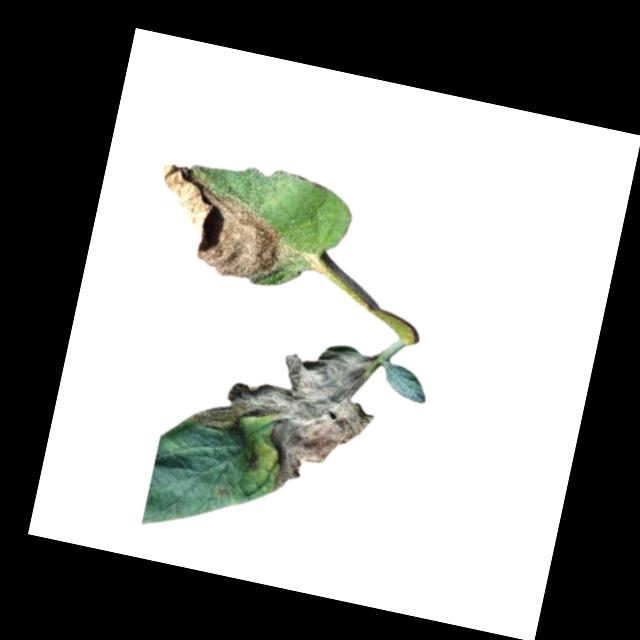Late_blight: (177, 317, 387, 508), (141, 163, 314, 293)
